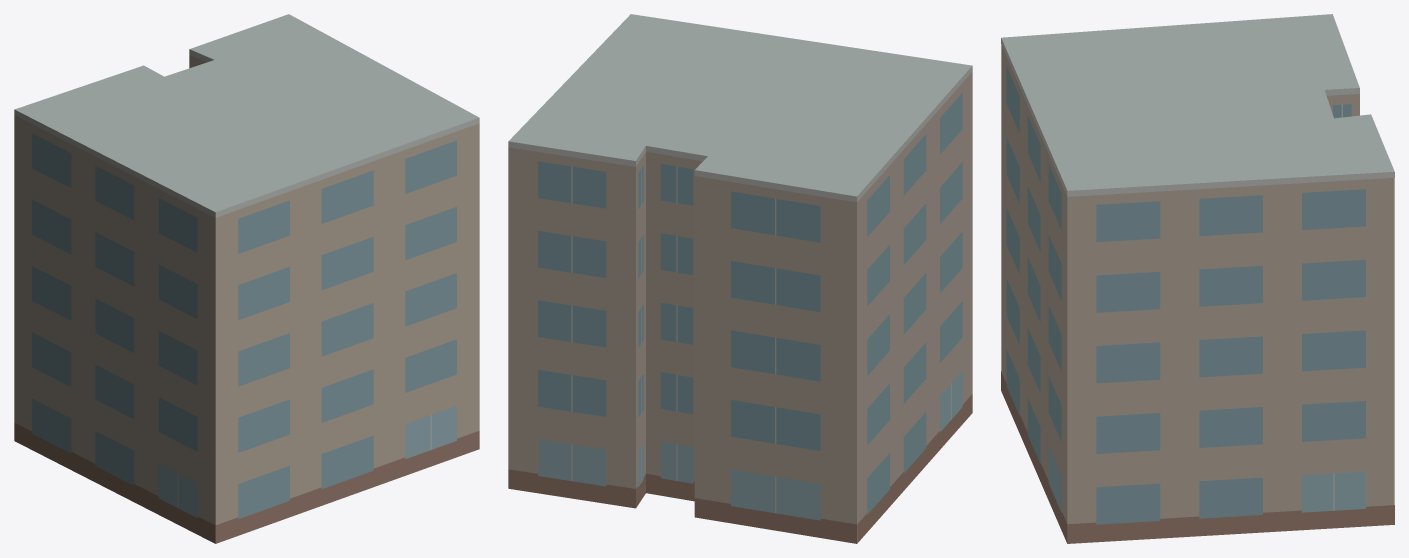
The model's file is survey-upis-32576744.glb.
The picture shows the model from 3 angles, left to right: view 1: azimuth 30°, elevation 25°; view 2: azimuth 150°, elevation 25°; view 3: azimuth 270°, elevation 25°; orthographic projection. The views are drawn at different scales.
Parts seen in each view (by area): view 1: survey-upis-32576744.tmp; view 2: survey-upis-32576744.tmp; view 3: survey-upis-32576744.tmp.
Part boxes in pixels (x1,y1,x2,y2): survey-upis-32576744.tmp: (14, 14, 479, 543); survey-upis-32576744.tmp: (508, 14, 972, 543); survey-upis-32576744.tmp: (1001, 14, 1394, 543).
Size of the model in its own units: 15.49 by 14.4 by 14.57.
